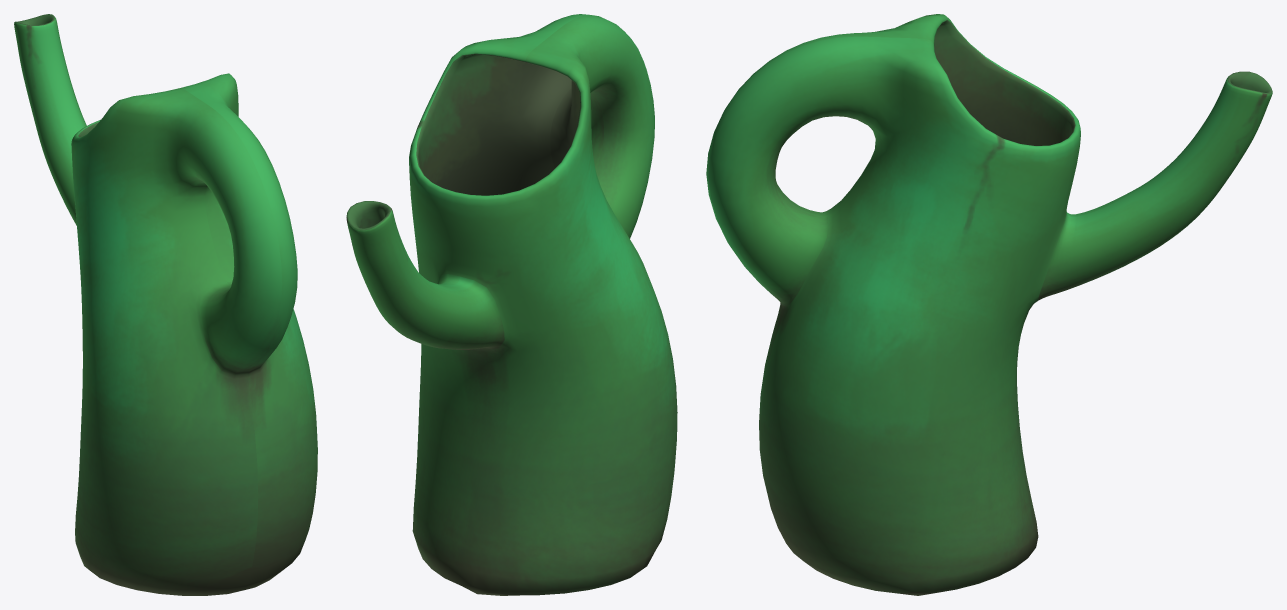
The model's file is watering can.fbx.
3 views of the same model, side by side, from view 1: azimuth 30°, elevation 25°; view 2: azimuth 150°, elevation 25°; view 3: azimuth 270°, elevation 25° (orthographic). The views are drawn at different scales.
Parts seen in each view (by area): view 1: Cylinder; view 2: Cylinder; view 3: Cylinder.
Part boxes in pixels (x1=…): Cylinder: x1=14, y1=14, x2=317, y2=595; Cylinder: x1=346, y1=14, x2=677, y2=595; Cylinder: x1=706, y1=14, x2=1272, y2=595.
Size of the model in its own units: 204 by 439 by 439.
1 material, 1 textured.
